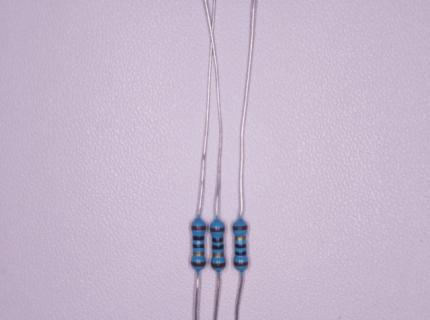Black band: (212, 237, 223, 242), (193, 236, 204, 240), (193, 244, 204, 248), (212, 245, 223, 249), (235, 244, 246, 248), (235, 251, 246, 255)
Brown band: (234, 261, 248, 267), (210, 227, 225, 232), (211, 263, 225, 268), (191, 262, 205, 267), (233, 226, 247, 230), (192, 226, 206, 230)
Gold band: (212, 252, 224, 257), (193, 251, 204, 256), (235, 236, 245, 240)
